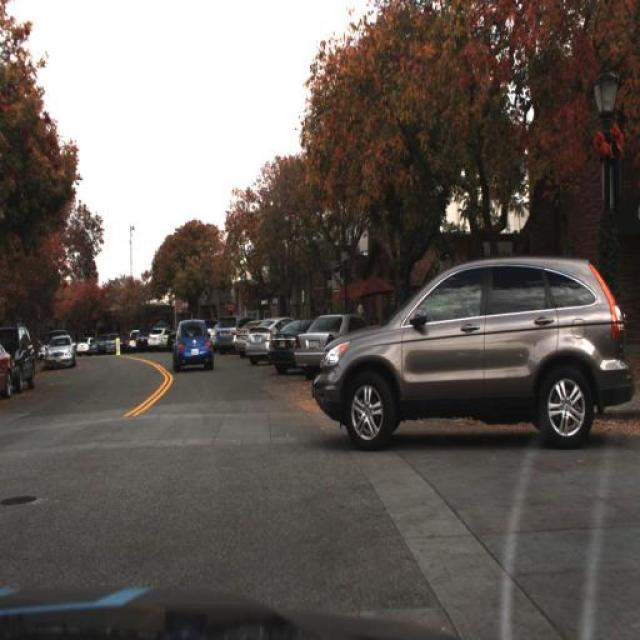car: (308, 244, 632, 448), (295, 312, 376, 382), (2, 325, 38, 394), (244, 308, 288, 364), (176, 314, 213, 374), (272, 312, 310, 348), (44, 334, 77, 368), (0, 344, 12, 401), (146, 326, 166, 350), (74, 336, 90, 360)
